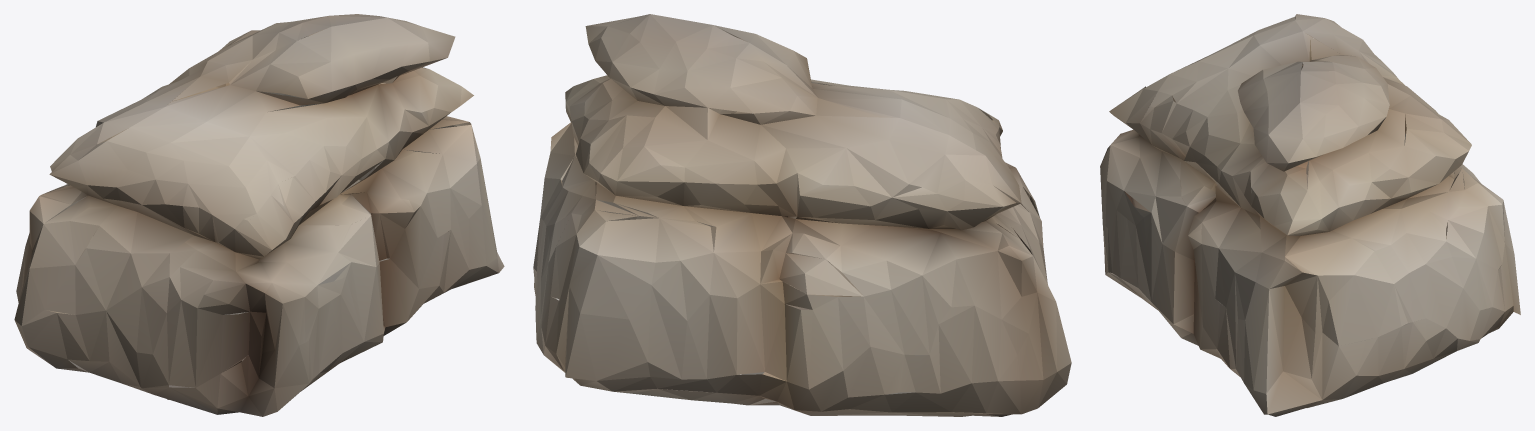
File: sandbags.glb
3 views of the same model, side by side, from view 1: azimuth 30°, elevation 25°; view 2: azimuth 150°, elevation 25°; view 3: azimuth 270°, elevation 25° (orthographic). The views are drawn at different scales.
Parts seen in each view (by area): view 1: geometry_0; view 2: geometry_0; view 3: geometry_0.
Part boxes in pixels (bbox=[...]): geometry_0: bbox=[14, 14, 504, 416]; geometry_0: bbox=[533, 14, 1071, 416]; geometry_0: bbox=[1100, 14, 1520, 416].
Size of the model in its own units: 1.4 by 0.8184 by 1.09.
